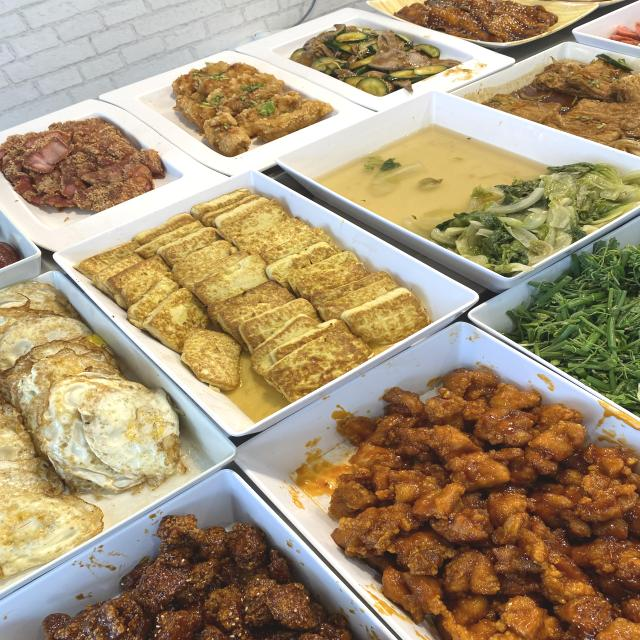Fushan-lettuce: (447, 173, 580, 237)
Pan Fried Tofu: (178, 228, 320, 348)
